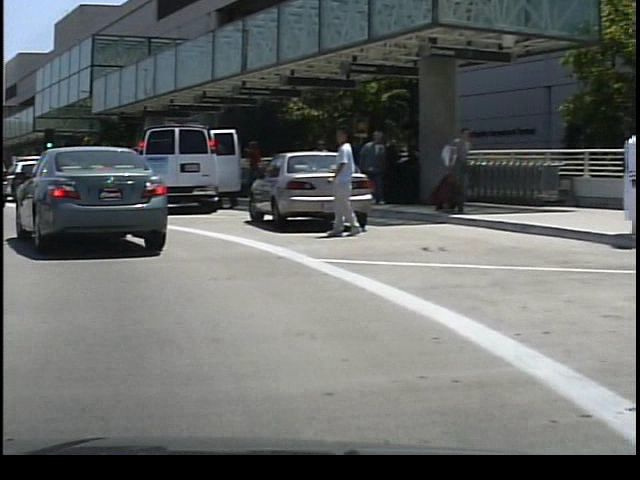person: (319, 122, 359, 239), (432, 123, 468, 215), (359, 125, 390, 210), (239, 136, 262, 203)
